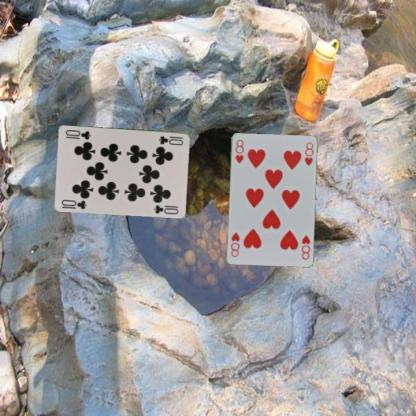10c: (59, 197, 88, 210), (156, 133, 184, 146)
8h: (232, 137, 245, 165), (299, 232, 311, 261)
